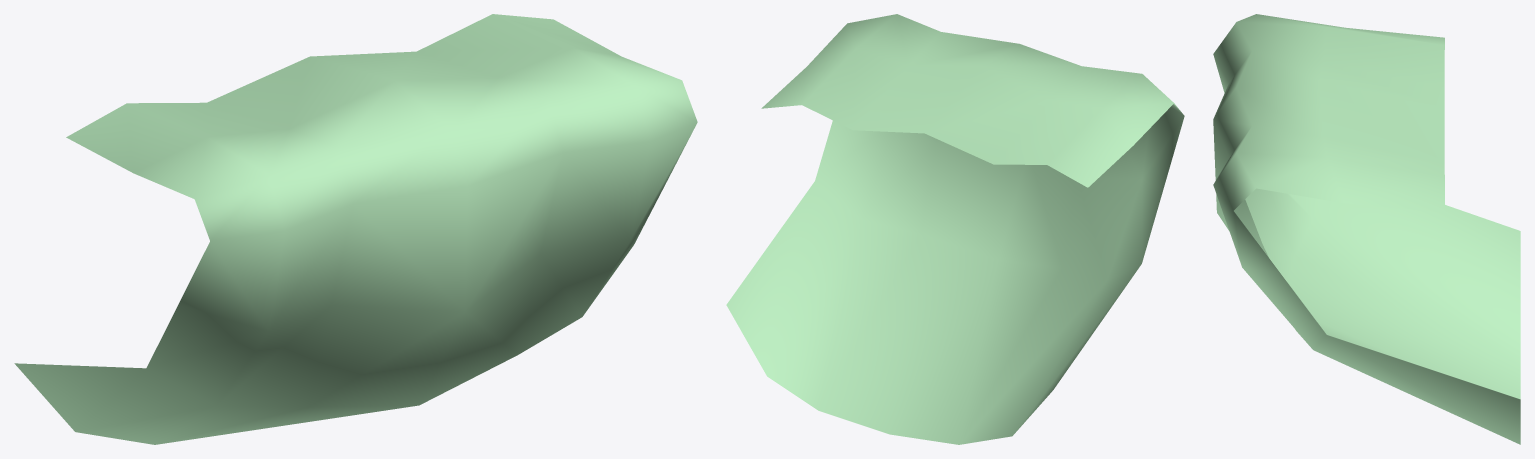
The picture shows the model from 3 angles, left to right: view 1: azimuth 30°, elevation 25°; view 2: azimuth 150°, elevation 25°; view 3: azimuth 270°, elevation 25°; orthographic projection. The views are drawn at different scales.
Parts seen in each view (by area): view 1: Object14; view 2: Object14; view 3: Object14.
Boxes of the visible parts, x1,y1,x2,y2 form: Object14: (14, 14, 697, 444); Object14: (726, 14, 1184, 444); Object14: (1213, 14, 1520, 444).
Size of the model in its own units: 10004 by 8805 by 7453.
